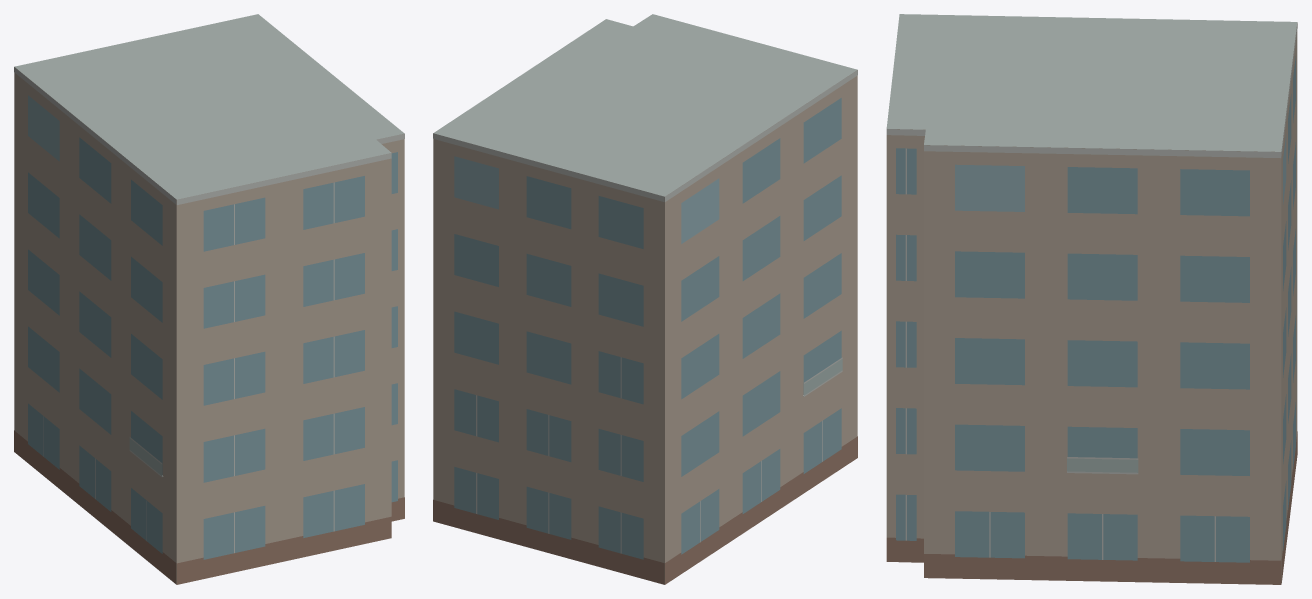
The model's file is survey-upis-32838140.glb.
3 views of the same model, side by side, from view 1: azimuth 30°, elevation 25°; view 2: azimuth 150°, elevation 25°; view 3: azimuth 270°, elevation 25° (orthographic). The views are drawn at different scales.
Parts seen in each view (by area): view 1: survey-upis-32838140.tmp; view 2: survey-upis-32838140.tmp; view 3: survey-upis-32838140.tmp.
Part boxes in pixels (x1,y1,x2,y2): survey-upis-32838140.tmp: (14,14,404,584); survey-upis-32838140.tmp: (433,14,857,584); survey-upis-32838140.tmp: (886,14,1297,584).
Bounding box in the file's own units: 11.54 × 16.88 × 14.53.
